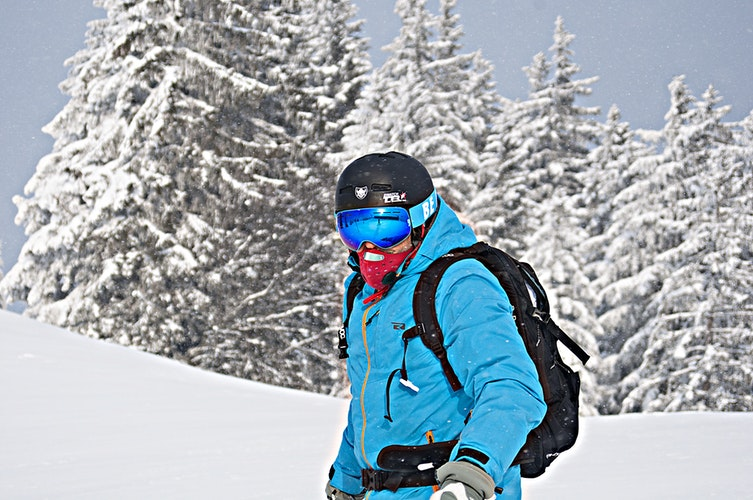helmet: (328, 147, 438, 267)
